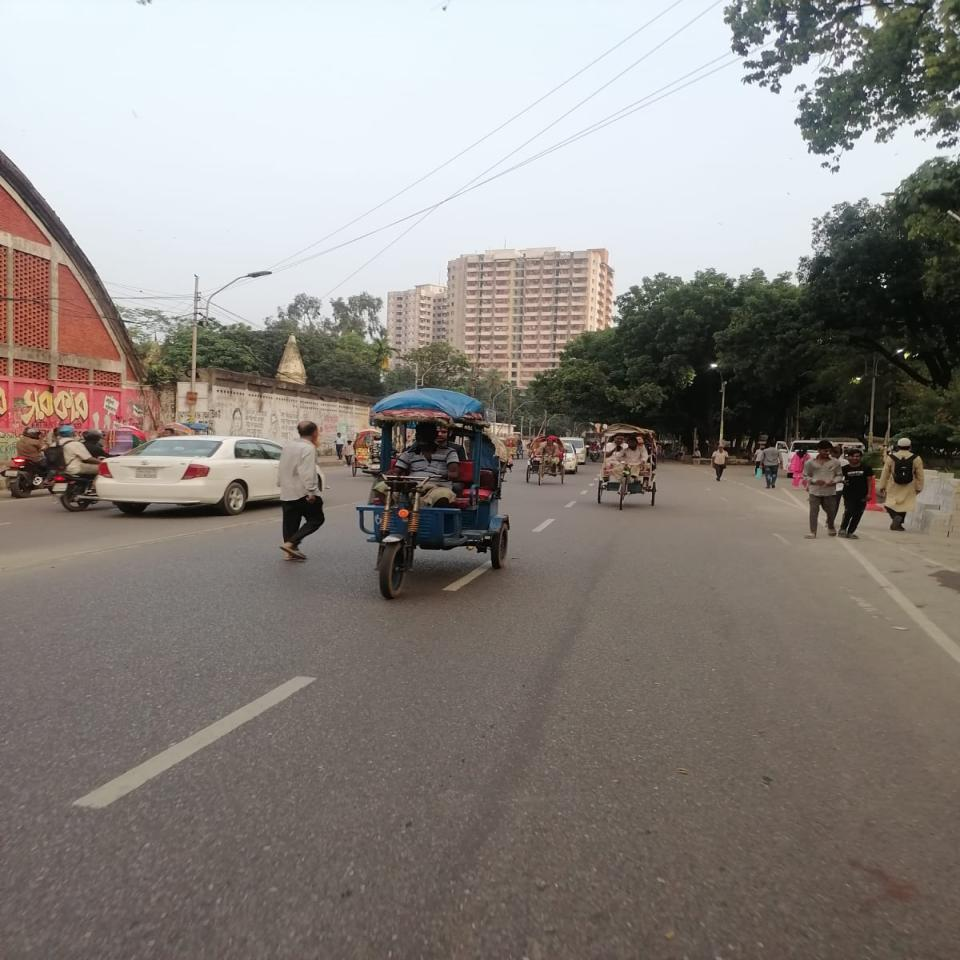person: (278, 421, 325, 561)
